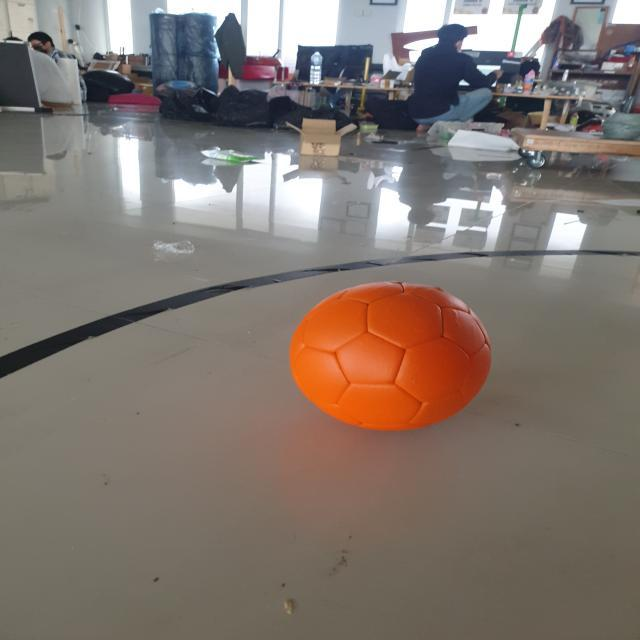bola: (283, 276, 498, 438)
